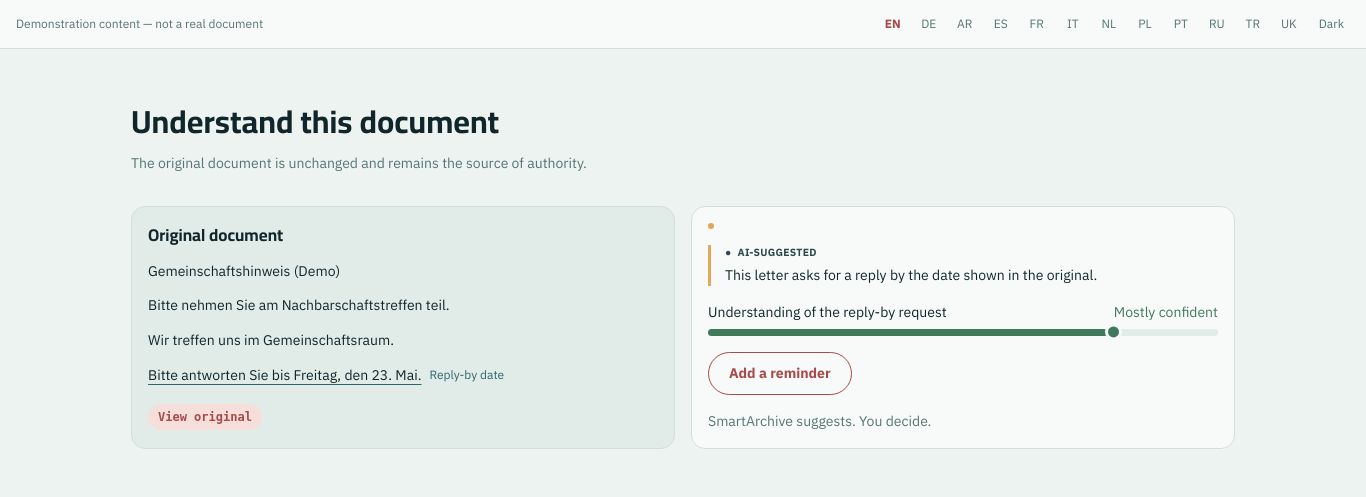
Scenario: DocumentUnderstanding (HSA-08) › switches Arabic to rtl while keeping the German original
Click the button "AR" at {"x": 965, "y": 24}, box [949, 8, 981, 40]
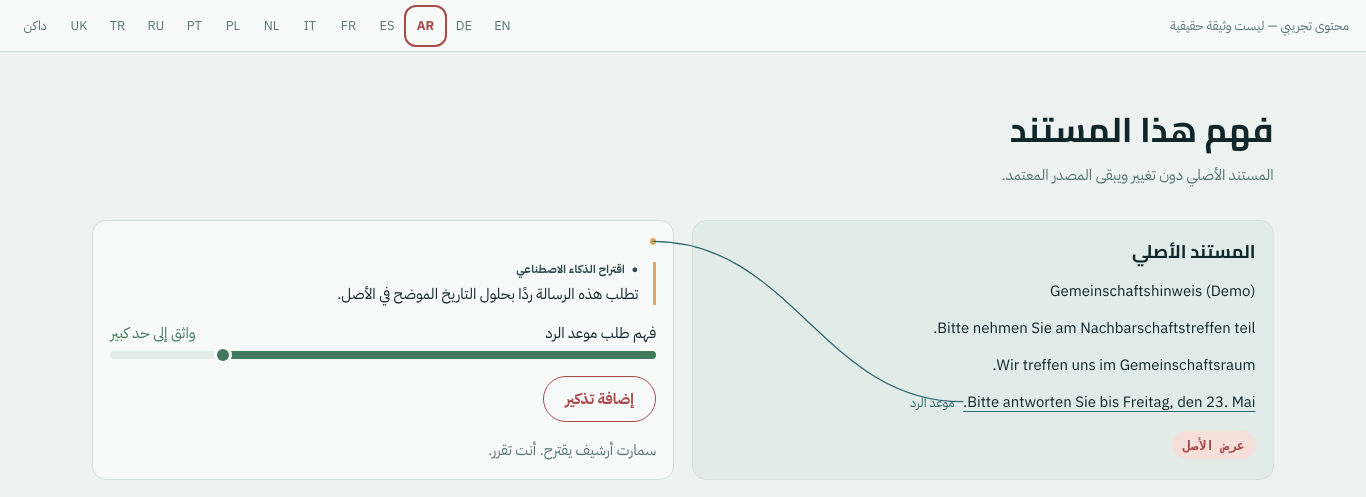
expect the text "Bitte antworten Sie bis Freitag, den 23. Mai." is shown: met, box [963, 391, 1256, 413]
expect the heading "فهم هذا المستند" is shown: met, box [1010, 97, 1274, 162]
